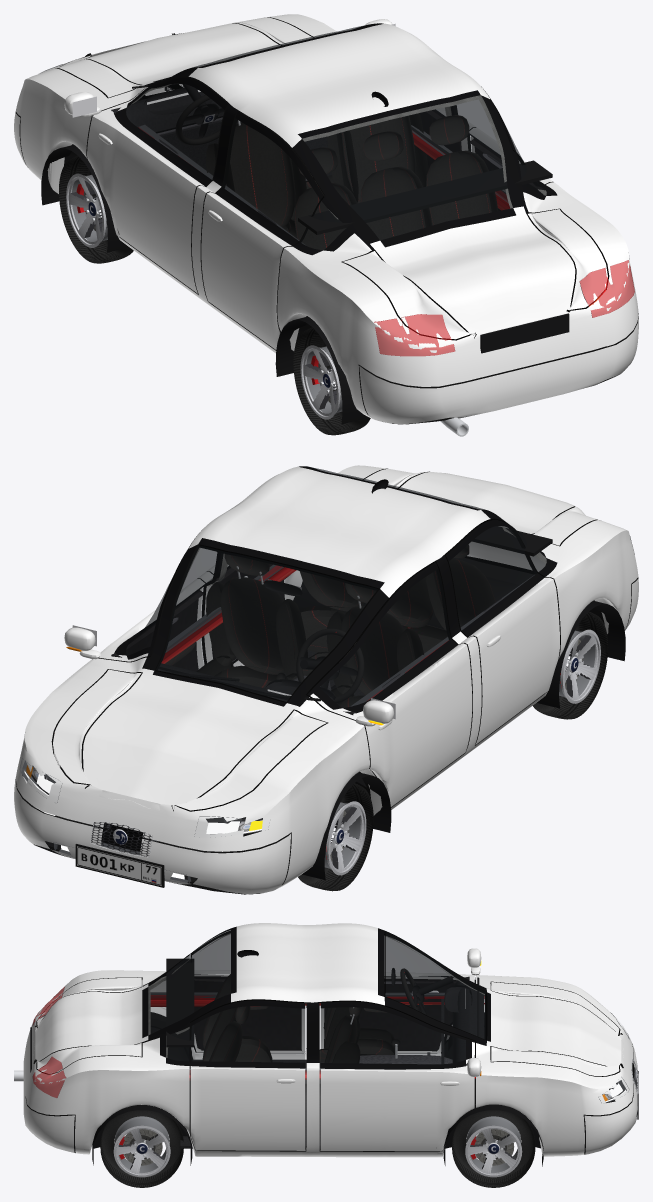
File: compact_sedan.glb
3 renders of one model, top to bottom at view 1: azimuth 30°, elevation 25°; view 2: azimuth 150°, elevation 25°; view 3: azimuth 270°, elevation 25°, orthographic. The views are drawn at different scales.
Visible parts, largest first — view 1: chassis, interior, door_lf_ok, door_lr_ok, bump_rear_ok, boot_ok, wheel_lb, wheel_lf, bonnet_ok, door_rr_ok, steering_wheel, door_rf_ok; view 2: chassis, interior, windscreen_ok, door_lf_ok, door_lr_ok, bump_front_ok, bonnet_ok, door_rf_ok, wheel_lf, wheel_lb, boot_ok, steering_wheel (+2 smaller); view 3: chassis, door_rf_ok, door_rr_ok, interior, windscreen_ok, door_lf_ok, wheel_rf, wheel_rb, door_lr_ok, bonnet_ok, boot_ok, bump_front_ok (+2 smaller).
Part boxes in pixels (x1=…): chassis: x1=15, y1=14, x2=638, y2=424; interior: x1=111, y1=84, x2=546, y2=250; door_lf_ok: x1=64, y1=77, x2=228, y2=293; door_lr_ok: x1=201, y1=111, x2=324, y2=349; bump_rear_ok: x1=359, y1=313, x2=638, y2=436; boot_ok: x1=342, y1=209, x2=607, y2=353; wheel_lb: x1=293, y1=327, x2=370, y2=435; wheel_lf: x1=59, y1=155, x2=133, y2=263; bonnet_ok: x1=55, y1=17, x2=312, y2=98; door_rr_ok: x1=454, y1=86, x2=553, y2=210; steering_wheel: x1=175, y1=83, x2=237, y2=145; door_rf_ok: x1=365, y1=19, x2=471, y2=168; chassis: x1=15, y1=465, x2=638, y2=894; interior: x1=111, y1=526, x2=546, y2=787; windscreen_ok: x1=156, y1=545, x2=378, y2=702; door_lf_ok: x1=307, y1=562, x2=472, y2=806; door_lr_ok: x1=445, y1=520, x2=559, y2=744; bump_front_ok: x1=14, y1=775, x2=290, y2=894; bonnet_ok: x1=53, y1=669, x2=327, y2=811; door_rf_ok: x1=64, y1=530, x2=220, y2=671; wheel_lf: x1=298, y1=783, x2=373, y2=891; wheel_lb: x1=533, y1=611, x2=608, y2=719; boot_ok: x1=364, y1=469, x2=600, y2=546; steering_wheel: x1=296, y1=628, x2=364, y2=703; chassis: x1=25, y1=923, x2=633, y2=1166; door_rf_ok: x1=320, y1=1001, x2=481, y2=1151; door_rr_ok: x1=190, y1=1000, x2=305, y2=1150; interior: x1=141, y1=933, x2=484, y2=1148; windscreen_ok: x1=384, y1=931, x2=486, y2=1039; door_lf_ok: x1=320, y1=934, x2=481, y2=1053; wheel_rf: x1=452, y1=1110, x2=535, y2=1187; wheel_rb: x1=100, y1=1110, x2=183, y2=1187; door_lr_ok: x1=190, y1=930, x2=305, y2=1053; bonnet_ok: x1=490, y1=982, x2=622, y2=1076; boot_ok: x1=30, y1=977, x2=142, y2=1074; bump_front_ok: x1=584, y1=1043, x2=638, y2=1154.
Bounding box in the file's own units: 2 × 1.49 × 4.43.
50 materials, 20 textured.
